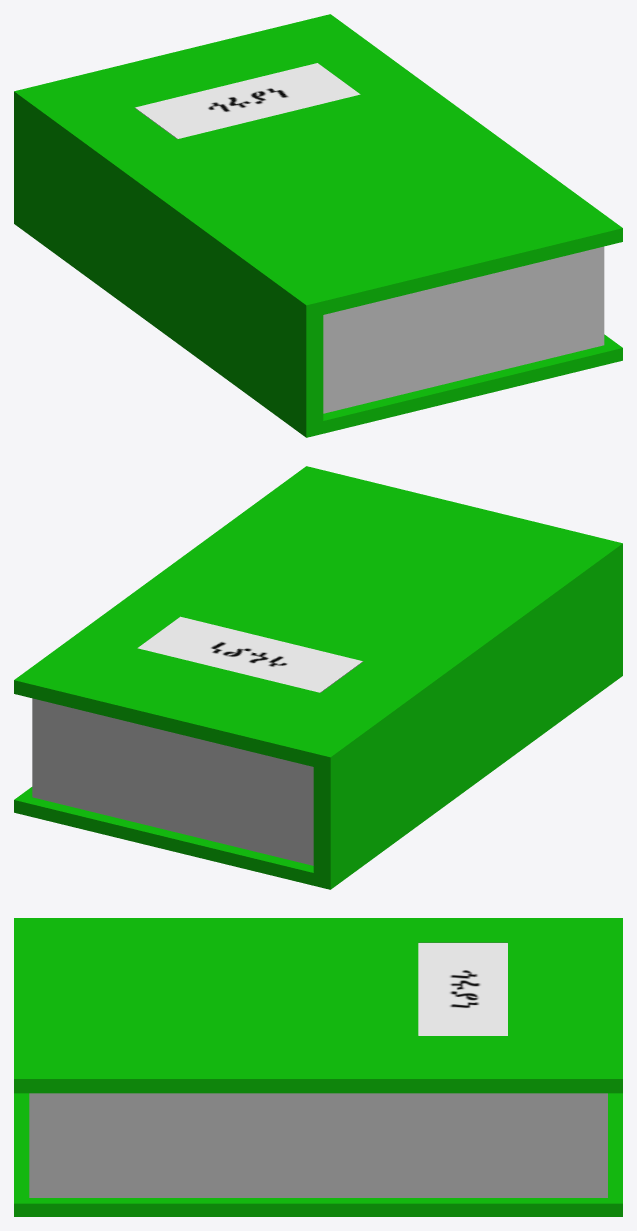
Rendered from book5_green_geez.obj.
3 renders of one model, top to bottom at view 1: azimuth 30°, elevation 25°; view 2: azimuth 150°, elevation 25°; view 3: azimuth 270°, elevation 25°, orthographic. The views are drawn at different scales.
Parts seen in each view (by area): view 1: Kaft.001_Cube.006, Inhoud.001_Cube.007, Ge'ez; view 2: Kaft.001_Cube.006, Inhoud.001_Cube.007, Ge'ez; view 3: Kaft.001_Cube.006, Inhoud.001_Cube.007, Ge'ez.
Boxes of the visible parts, x1,y1,x2,y2 form: Kaft.001_Cube.006: (14,14,622,437); Inhoud.001_Cube.007: (323,246,604,413); Ge'ez: (134,63,360,138); Kaft.001_Cube.006: (14,466,622,889); Inhoud.001_Cube.007: (32,698,313,865); Ge'ez: (137,616,363,692); Kaft.001_Cube.006: (14,918,622,1216); Inhoud.001_Cube.007: (29,1093,607,1197); Ge'ez: (418,942,507,1035).
Bounding box in the file's own units: 0.5 × 0.2123 × 0.8.
3 materials, 1 textured.
